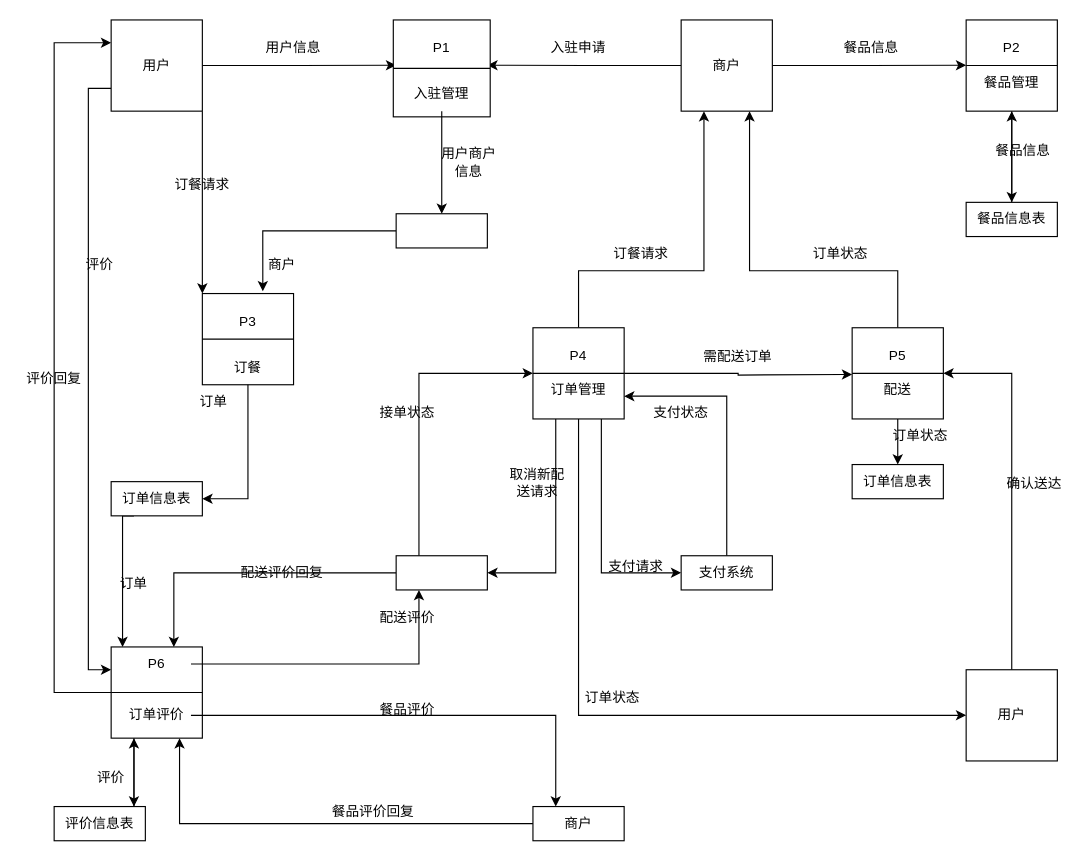
Some shapes in this 1088 by 861 pixel diagram are drawn without their labels. Each missing label, with the centre of its shape:
"外卖平台" goes at [441,572].
"用户/商户信息表" goes at [441,230].
